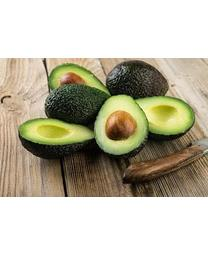avocado: (94, 92, 148, 160), (16, 117, 95, 159), (127, 97, 197, 140), (44, 86, 110, 131), (105, 61, 169, 102)
